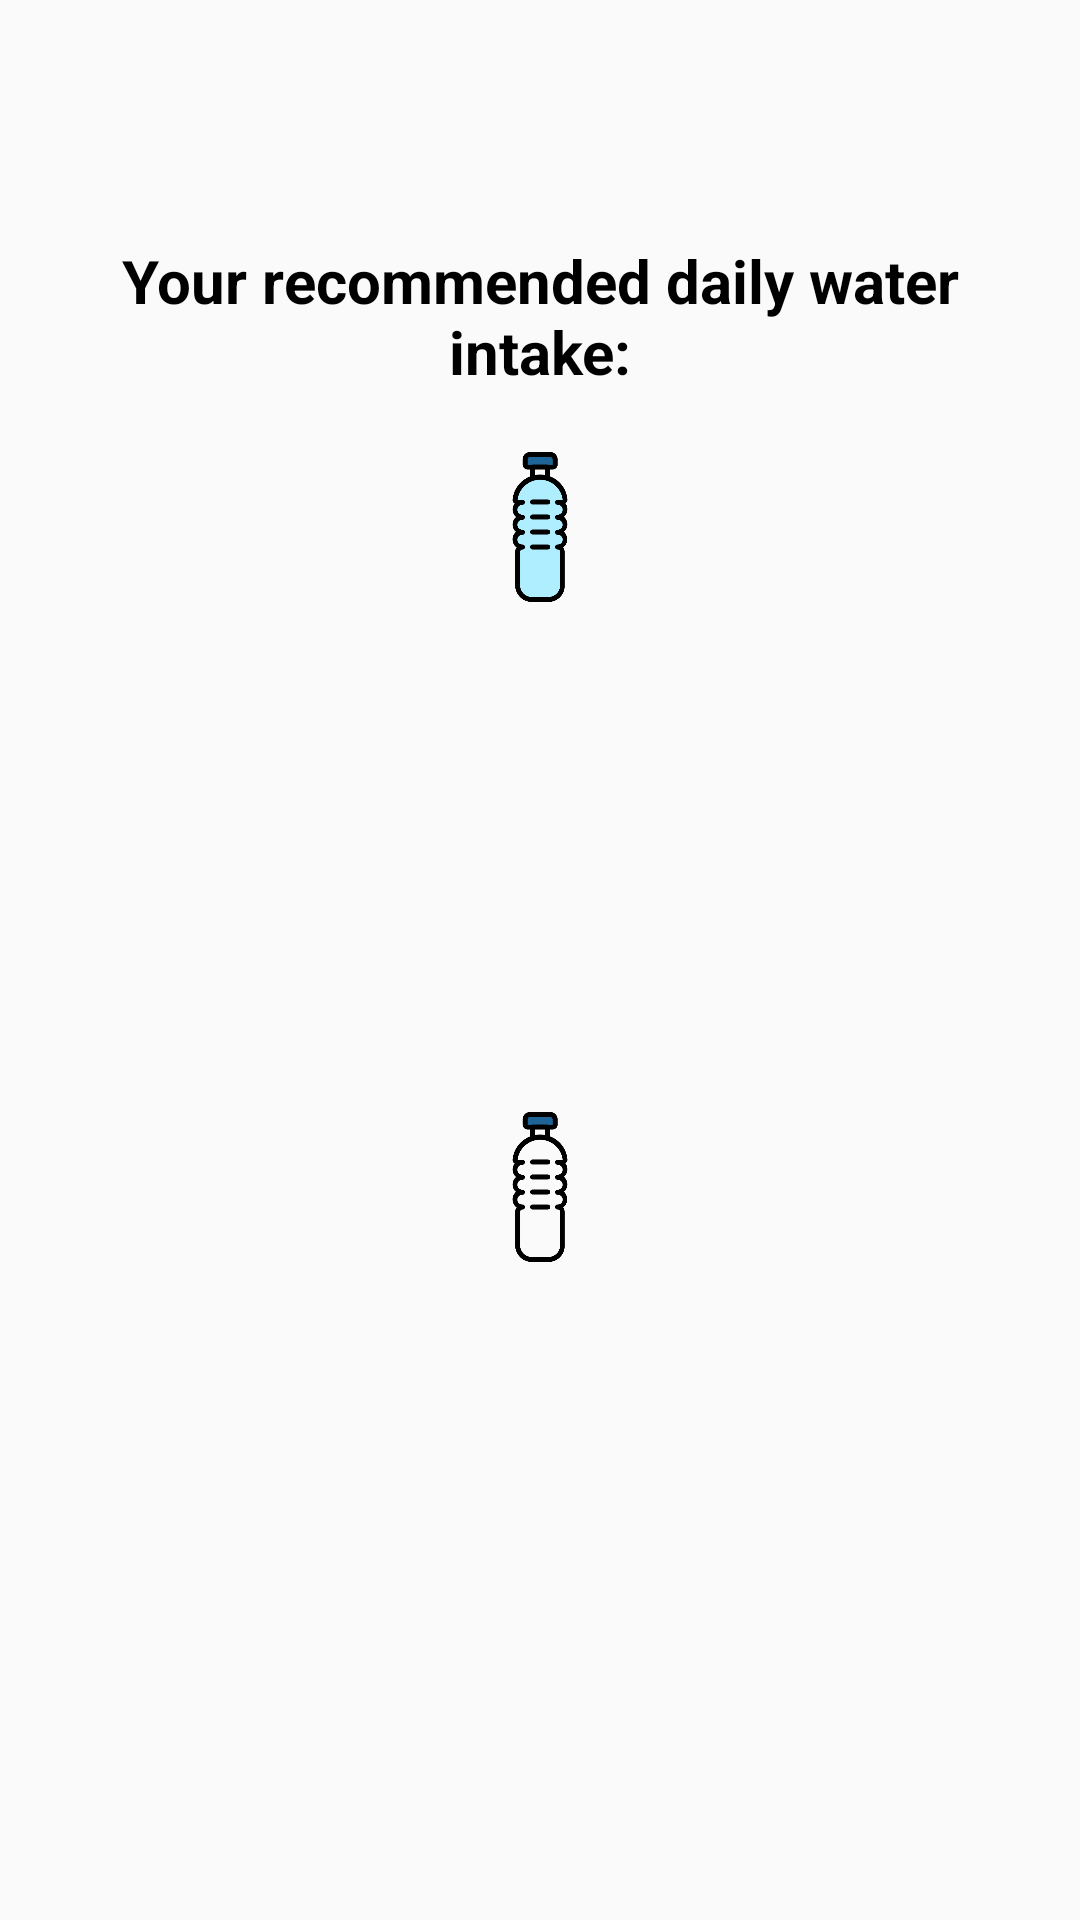

Icons on this 1080 x 1920 Android screen, each with its box as (x1, y1, x2, y2):
bottle: (512, 452, 568, 602), (512, 1112, 568, 1262)
